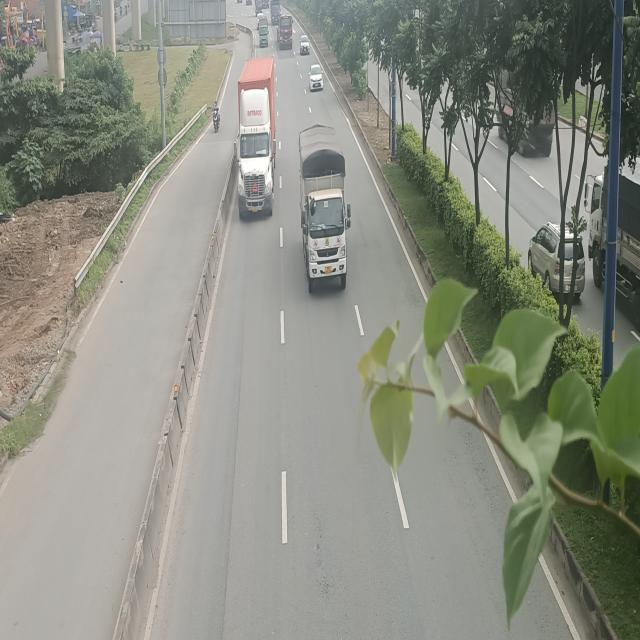car: (309, 64, 324, 92)
container: (232, 61, 275, 220), (277, 14, 294, 52)
truck: (301, 124, 354, 292)
